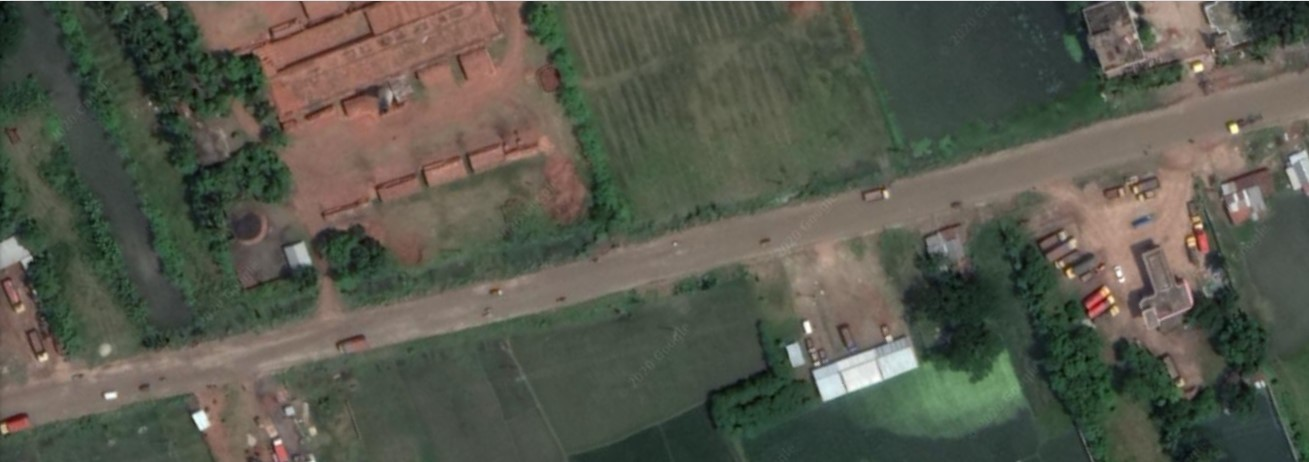kiln: (266, 23, 530, 145)
